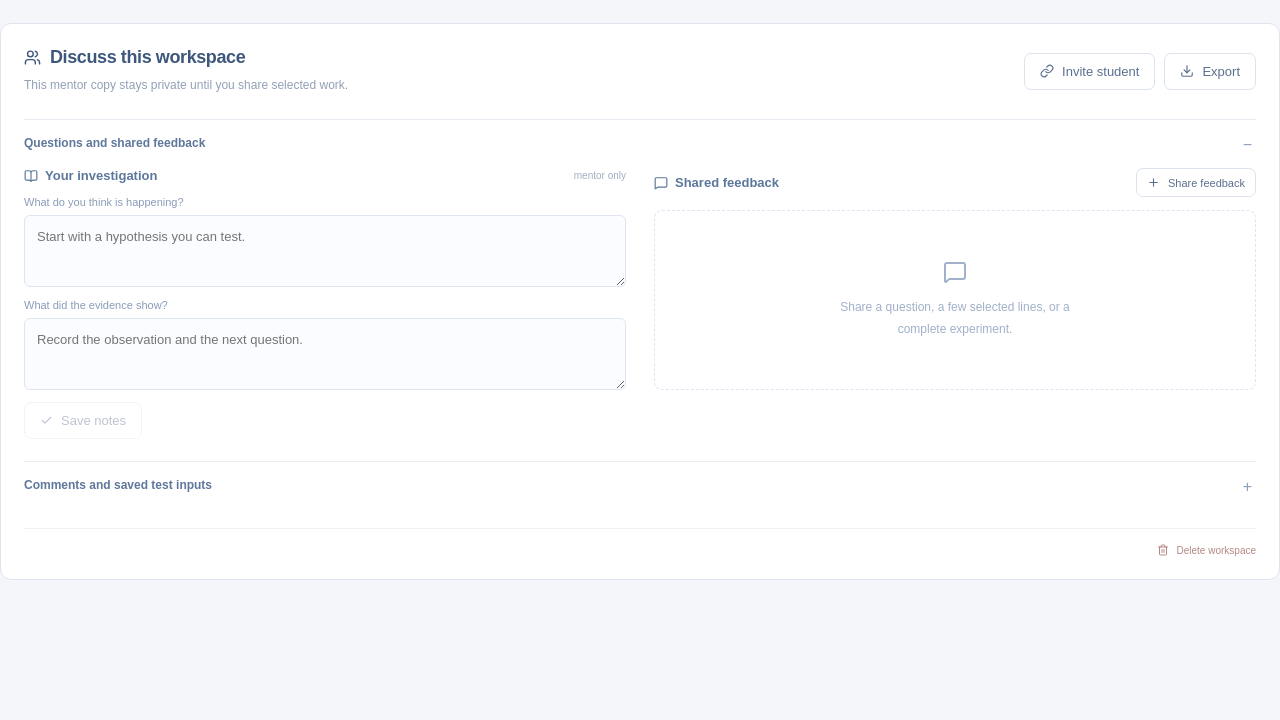
it: keeps comments and saved inputs collapsed until they are needed
Expected: the heading "Questions and shared feedback" is shown, x1=24 y1=136 x2=205 y2=150
Expected: the heading "Comments on source lines" is not shown
Click the heading "Comments and saved test inputs": [118, 485] box x1=24 y1=478 x2=212 y2=492
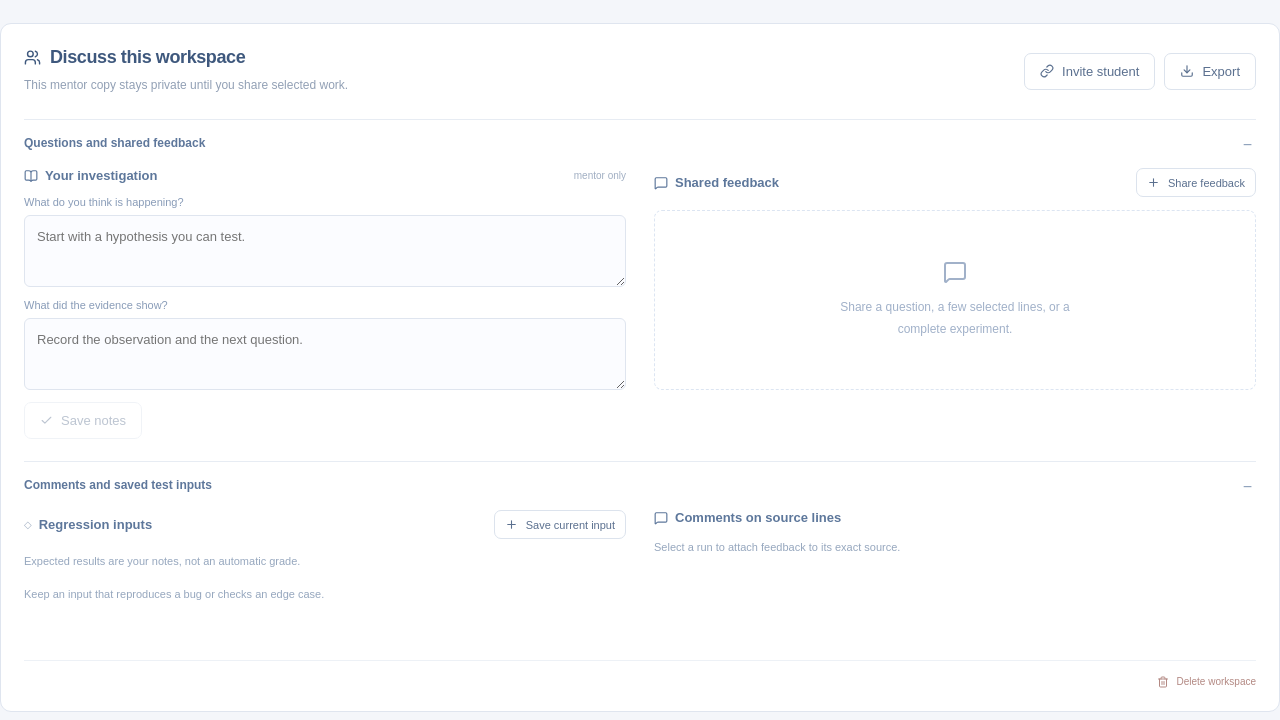
Now the heading "Comments on source lines" is shown, box x1=654 y1=510 x2=841 y2=525
